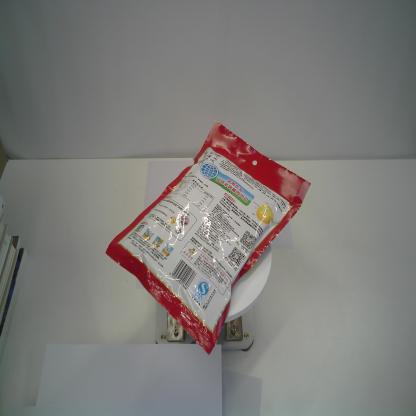Instant Drink: (102, 116, 312, 358)
